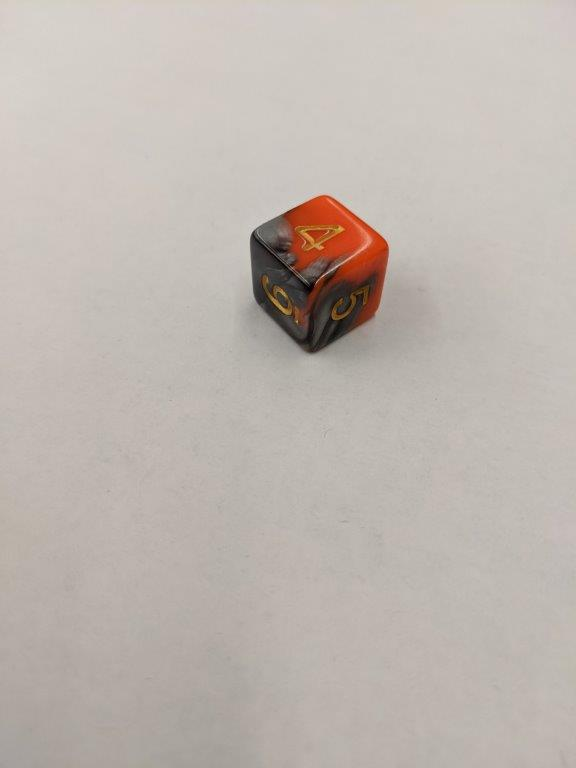d6-4: (251, 194, 388, 355)
